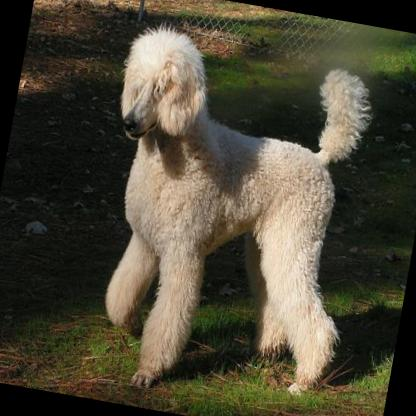standard_poodle: (67, 14, 387, 416)
